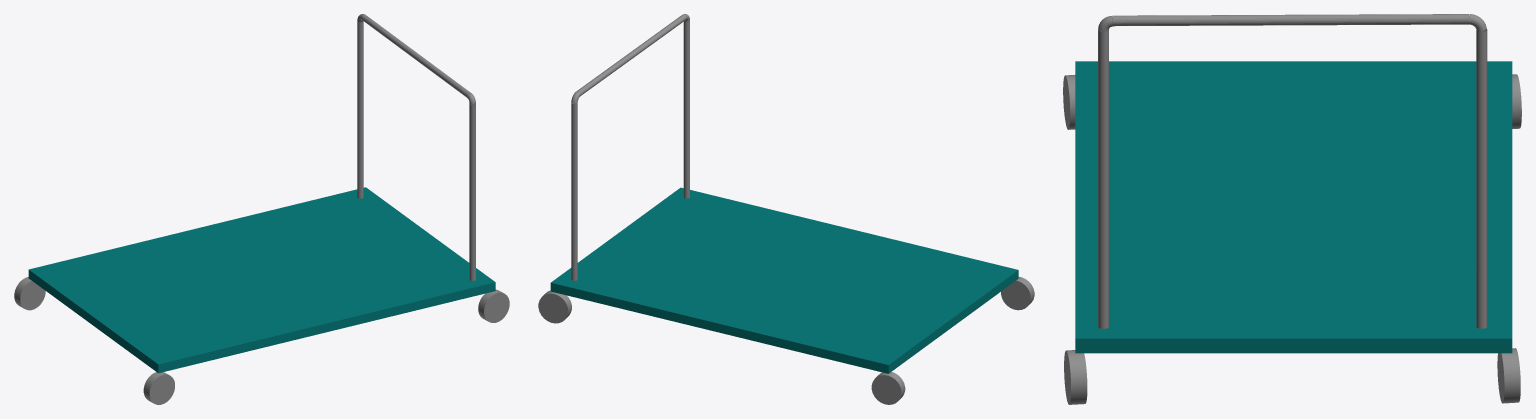
File: emaLIB_Plattformwagen.dae
The picture shows the model from 3 angles, left to right: view 1: azimuth 30°, elevation 25°; view 2: azimuth 150°, elevation 25°; view 3: azimuth 270°, elevation 25°; orthographic projection. The views are drawn at different scales.
Visible parts, largest first — view 1: Plattformwagen (×6); view 2: Plattformwagen (×6); view 3: Plattformwagen (×7).
Part boxes in pixels (x1,y1,x2,y2): Plattformwagen (×6): [14, 14, 509, 404]; Plattformwagen (×6): [538, 14, 1034, 404]; Plattformwagen (×7): [1063, 14, 1521, 404].
Size of the model in its own units: 50.94 by 33.05 by 29.95.
